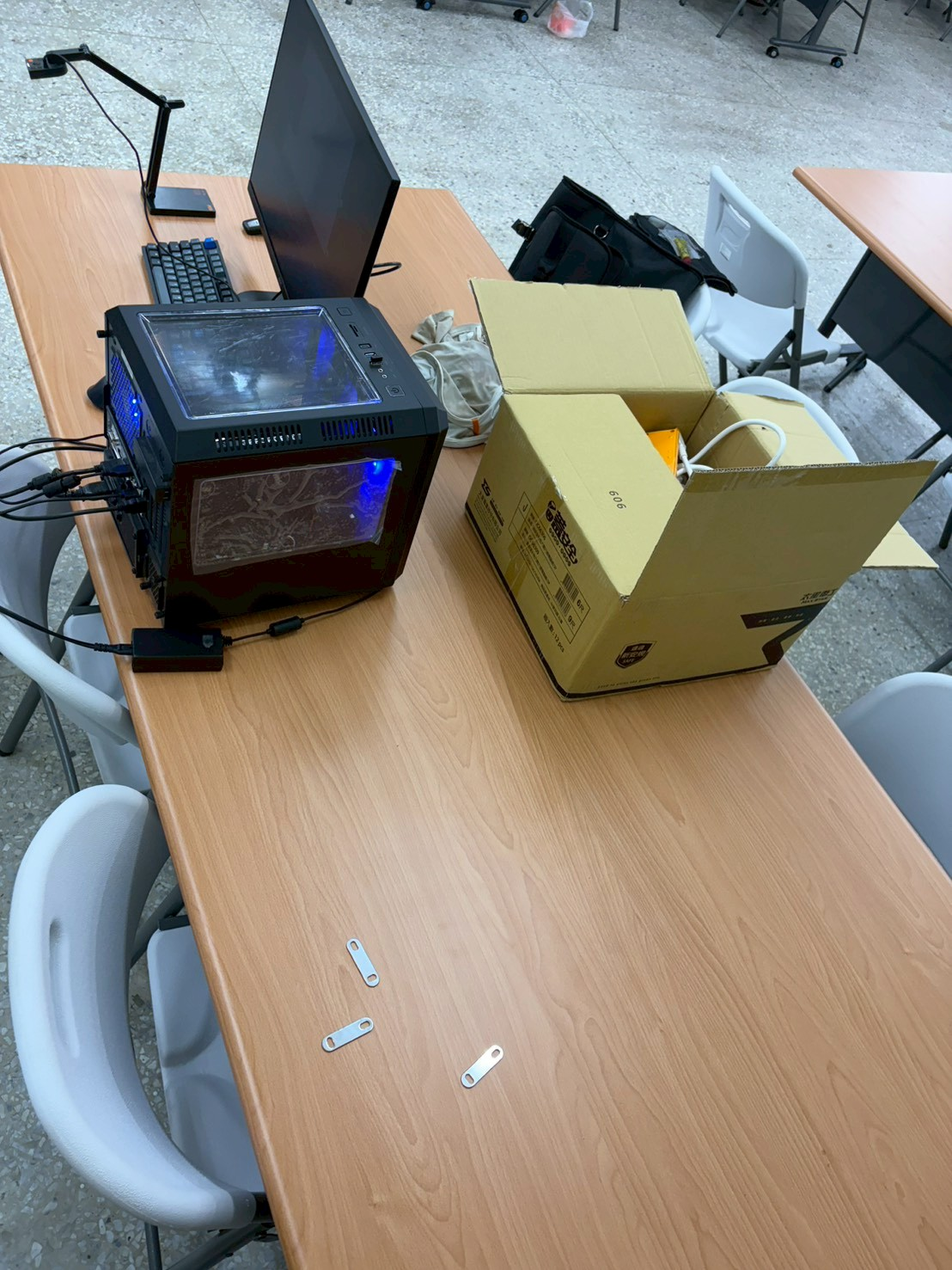Fe: (349, 1002, 389, 1055), (344, 936, 384, 989), (480, 1030, 520, 1083)
